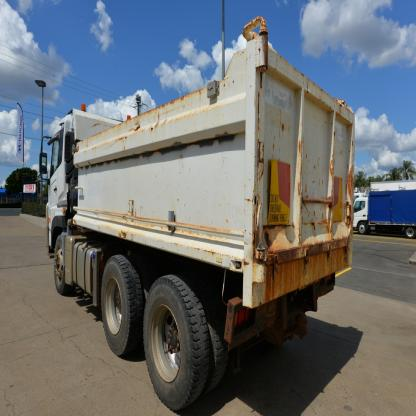dump_truck: (34, 18, 359, 406)
